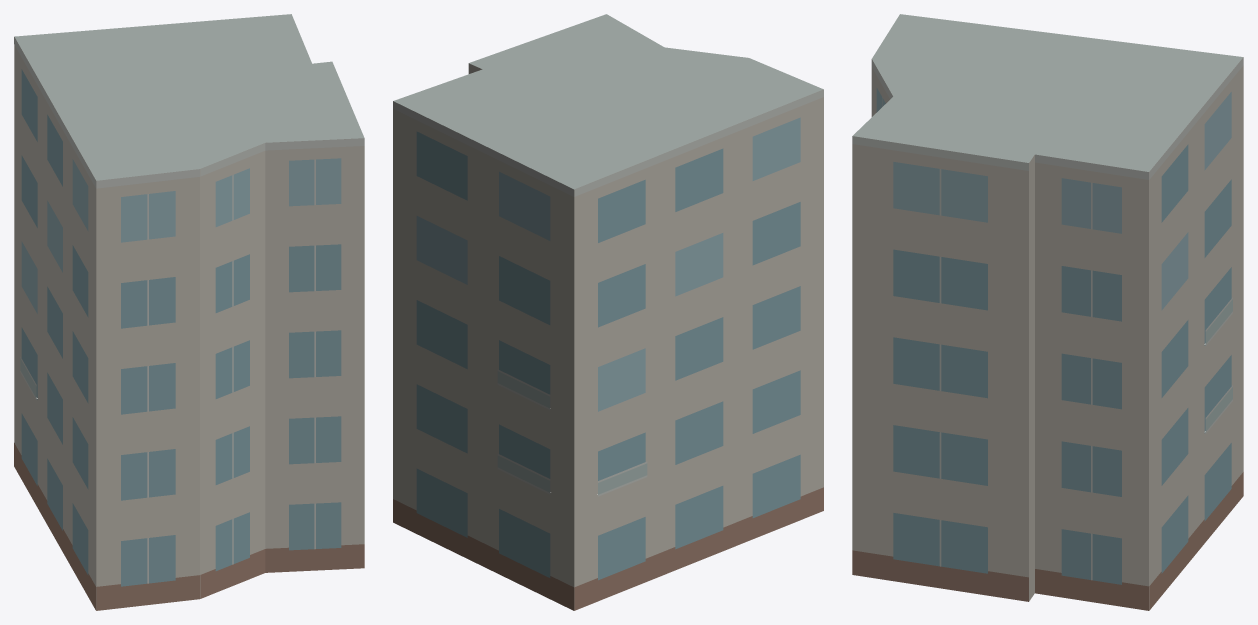
Rendered from survey-upis-32813522.glb.
3 renders of one model, left to right at view 1: azimuth 30°, elevation 25°; view 2: azimuth 150°, elevation 25°; view 3: azimuth 270°, elevation 25°, orthographic. The views are drawn at different scales.
Parts seen in each view (by area): view 1: survey-upis-32813522.tmp; view 2: survey-upis-32813522.tmp; view 3: survey-upis-32813522.tmp.
Boxes of the visible parts, x1,y1,x2,y2 form: survey-upis-32813522.tmp: [14, 14, 364, 610]; survey-upis-32813522.tmp: [393, 14, 823, 610]; survey-upis-32813522.tmp: [852, 14, 1243, 610].
Bounding box in the file's own units: 10.4 × 13.45 × 10.88.
